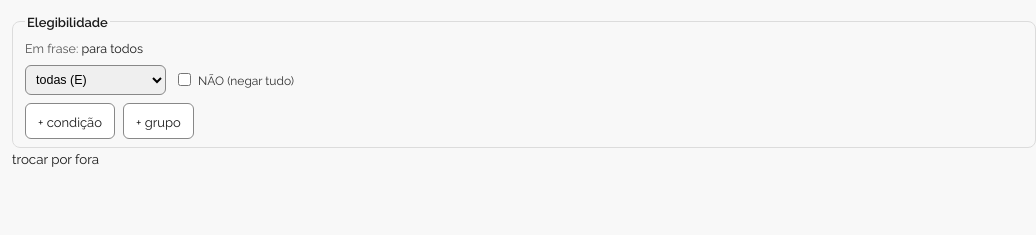
ConditionBuilder — acolhimento (módulo 18) › sistólica a partir de 180 vira árvore e frase com a unidade
Click the button "+ condição" at (70, 121), box [25,103,115,139]
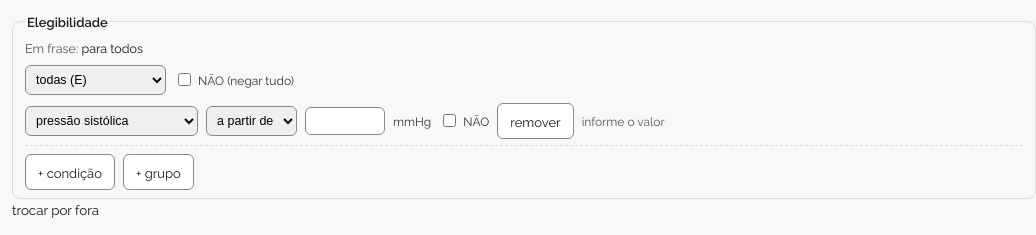
Type "180" into the number field named "valor" at (345, 121), box [305,107,385,135]
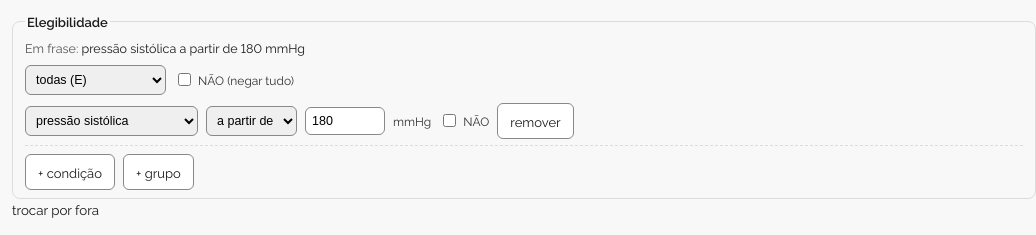
Now the text "pressão sistólica a partir de 180 mmHg" is shown, box [81,39,305,56]
